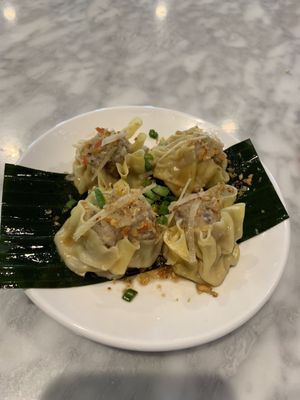curry: (142, 183, 175, 227)
